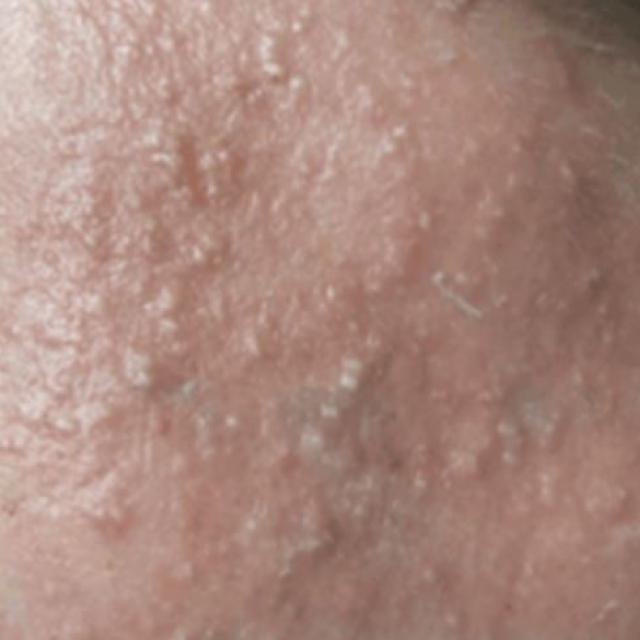fungal: (47, 10, 606, 629)
